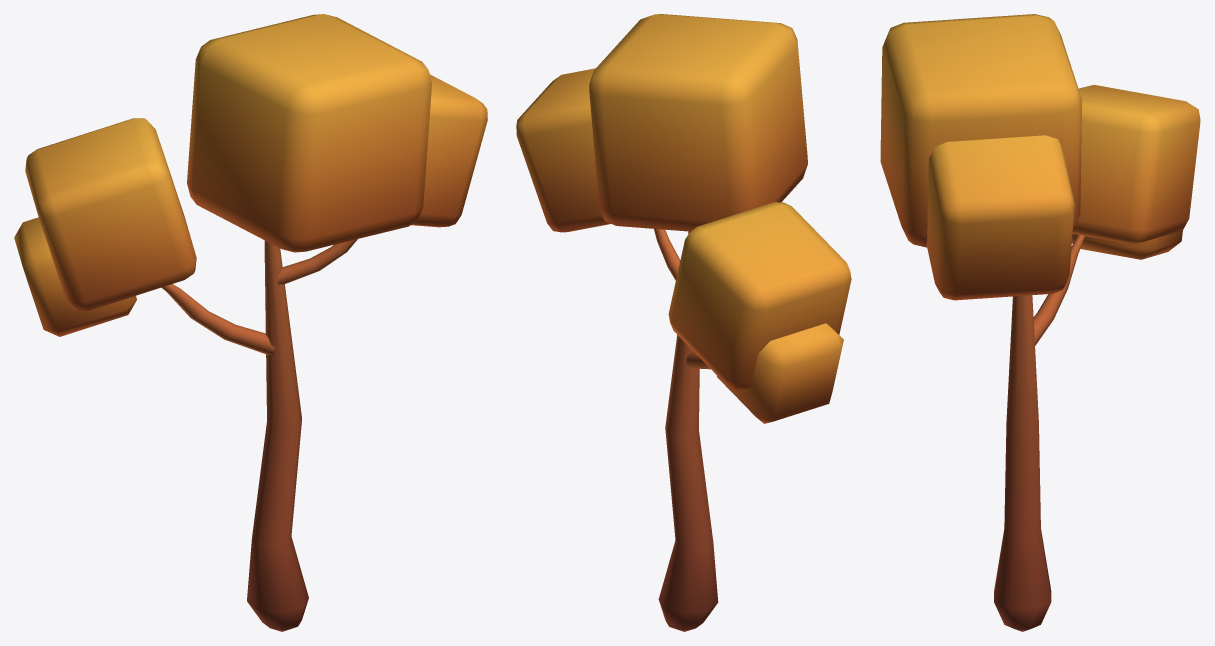
File: tree.gltf
The picture shows the model from 3 angles, left to right: view 1: azimuth 30°, elevation 25°; view 2: azimuth 150°, elevation 25°; view 3: azimuth 270°, elevation 25°; orthographic projection. The views are drawn at different scales.
Parts seen in each view (by area): view 1: Tree_2_C_Color1; view 2: Tree_2_C_Color1; view 3: Tree_2_C_Color1.
Part boxes in pixels (<box>): Tree_2_C_Color1: <box>14,14,487,631</box>; Tree_2_C_Color1: <box>516,14,851,631</box>; Tree_2_C_Color1: <box>880,14,1200,631</box>.
Bounding box in the file's own units: 4.6 × 6.92 × 3.4.
Materials: 1 (1 with a texture image).
